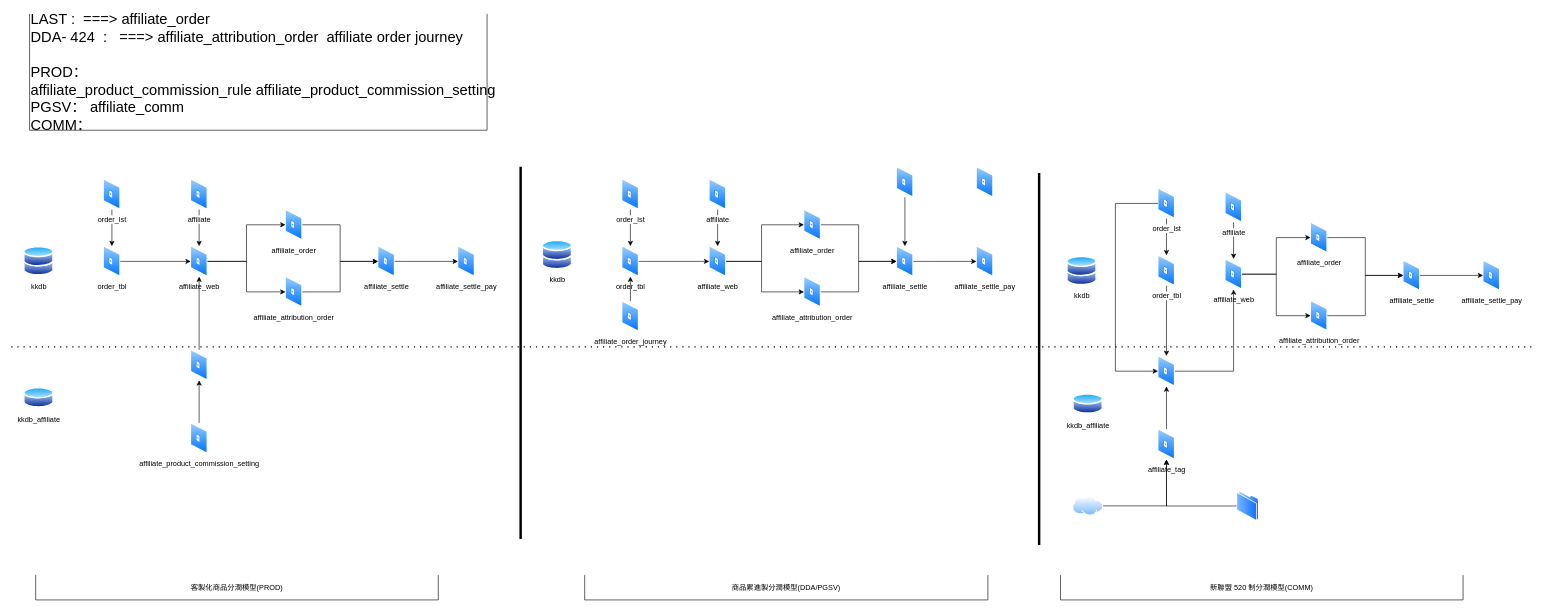
The diagram is 1547 pixels wide and 611 high, and some of its shapes have lost their labels. The shapes that lost their labels are listed below. From the top down, each one's centre as x and y in pixels, then its label:
At (x=904, y=182): "affiliate_comm".
At (x=984, y=182): "affiliate_revenue_share_setting".
At (x=198, y=365): "affiliate_product_commission_rule".
At (x=1166, y=371): "affiliate_product".
At (x=1087, y=505): "SearchAPI".
At (x=1247, y=505): "DataTeam S3".
